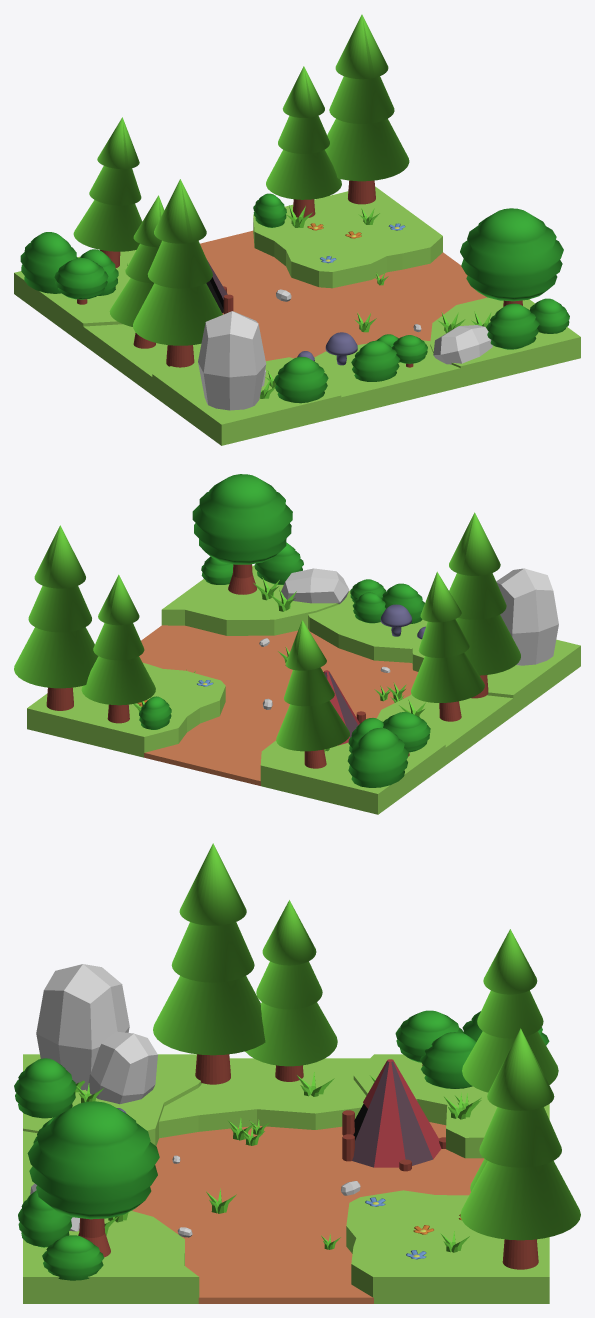
File: jungle level set - 2 Way (1).fbx
The picture shows the model from 3 angles, top to bottom: view 1: azimuth 30°, elevation 25°; view 2: azimuth 150°, elevation 25°; view 3: azimuth 270°, elevation 25°; orthographic projection. The views are drawn at different scales.
Visible parts, largest first — view 1: land_platform, tree_001, tree_006, tree_003, tree, tree_002, stone, tree_005, bush_003, bush_005, bush_004, tree_004 (+8 smaller); view 2: land_platform, tree_001, tree_003, tree_006, tree_005, tree, tree_002, stone, bush_003, stone_004, tree_004, bush_004 (+8 smaller); view 3: land_platform, tree_001, tree_006, tree_003, tree_005, stone, tree_002, camp, stone_001, bush_005, bush_001, bush (+2 smaller).
Part boxes in pixels (x1,y1,x2,y2): land_platform: (14,186,580,445); tree_001: (325,14,409,204); tree_006: (133,179,222,367); tree_003: (460,208,563,306); tree: (266,66,341,217); tree_002: (73,117,142,267); stone: (198,311,266,410); tree_005: (109,195,164,348); bush_003: (20,232,77,293); bush_005: (274,357,328,403); bush_004: (486,303,539,349); tree_004: (54,258,108,304); land_platform: (27,565,580,814); tree_001: (14,525,98,710); tree_003: (192,474,292,594); tree_006: (449,512,520,698); tree_005: (411,571,484,721); tree: (81,574,155,723); tree_002: (276,620,349,768); stone: (496,568,558,665); bush_003: (347,727,408,787); stone_004: (281,568,349,603); tree_004: (383,712,430,756); bush_004: (254,542,303,584); land_platform: (23,1054,549,1303); tree_001: (460,1028,580,1269); tree_006: (153,843,265,1084); tree_003: (27,1101,159,1257); tree_005: (245,900,337,1081); stone: (36,964,129,1090); tree_002: (462,929,558,1092); camp: (342,1059,445,1171); stone_001: (86,1031,157,1104); bush_005: (14,1058,76,1118); bush_001: (420,1032,476,1088); bush: (42,1235,103,1280).
Bounding box in the file's own units: 16.26 × 8.53 × 16.34.
